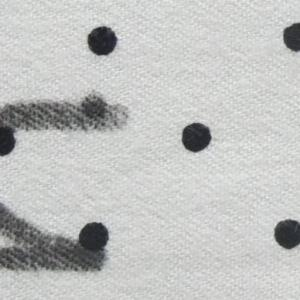Stain: (1, 198, 113, 277), (1, 96, 132, 135)
